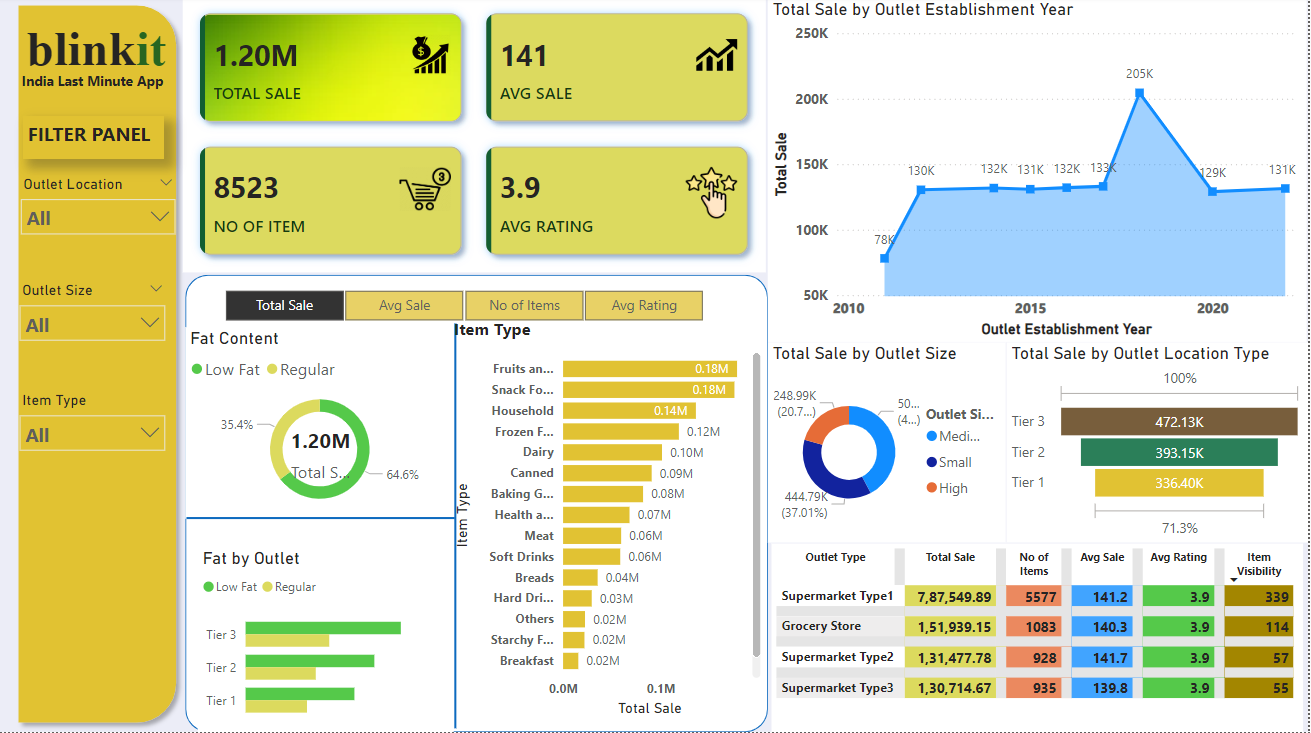

The page's visual inventory and layout, read from the dashboard file:
{"tool":"powerbi","page":{"name":"Page 1","canvas":[1280,720],"ordinal":0},"visuals":[{"type":"shape","box":[10,0,172.5,720],"z":0},{"type":"textbox","box":[22.5,20,172.5,67.5],"z":1000},{"type":"textbox","box":[17.5,68.8,188.8,36.2],"z":2000},{"type":"cardVisual","fields":{"Data":["BlinkIT Grocery Data.Total Sale","BlinkIT Grocery Data.Avg Sale","BlinkIT Grocery Data.No of Items","BlinkIT Grocery Data.Avg Rating","BlinkIT Grocery Data.Total Sale"]},"box":[180,0,570,270],"z":3000},{"type":"shape","box":[182.5,272.5,570,447.5],"z":4000},{"type":"slicer","fields":{"Values":["Metrics.Metrics"]},"box":[195.7,281.4,517.1,42.9],"z":5000},{"type":"donutChart","title":"Fat Content","fields":{"Y":["BlinkIT Grocery Data.Avg Rating"],"Category":["BlinkIT Grocery Data.Item Fat Content"]},"box":[182.5,323.8,263.8,187.5],"z":6000},{"type":"card","fields":{"Values":["BlinkIT Grocery Data.Avg Rating"]},"box":[280,417,69.7,59.9],"z":7000},{"type":"clusteredBarChart","title":"Fat by Outlet","fields":{"Y":["BlinkIT Grocery Data.Avg Rating"],"Category":["BlinkIT Grocery Data.Outlet Location Type"],"Series":["BlinkIT Grocery Data.Item Fat Content"]},"box":[195,538.8,250,181.2],"z":8000},{"type":"shape","box":[183.8,502.5,262.5,16.2],"z":9000},{"type":"shape","box":[442.5,320,7.5,396.2],"z":10000},{"type":"clusteredBarChart","title":" Item Type","fields":{"Y":["BlinkIT Grocery Data.Avg Rating"],"Category":["BlinkIT Grocery Data.Item Type"]},"box":[440,314.3,310,395.7],"z":11000},{"type":"funnel","fields":{"Category":["BlinkIT Grocery Data.Outlet Location Type"],"Y":["BlinkIT Grocery Data.Total Sale"]},"box":[985,338.8,295,196.2],"z":12000},{"type":"donutChart","fields":{"Category":["BlinkIT Grocery Data.Outlet Size"],"Y":["BlinkIT Grocery Data.Total Sale"]},"box":[752.5,338.8,232.5,196.2],"z":13000},{"type":"areaChart","fields":{"Category":["BlinkIT Grocery Data.Outlet Establishment Year"],"Y":["BlinkIT Grocery Data.Total Sale"]},"box":[752.5,2.5,527.5,336.2],"z":14000},{"type":"pivotTable","fields":{"Rows":["BlinkIT Grocery Data.Outlet Type"],"Values":["BlinkIT Grocery Data.Total Sale","BlinkIT Grocery Data.No of Items","BlinkIT Grocery Data.Avg Sale","BlinkIT Grocery Data.Avg Rating","Sum(BlinkIT Grocery Data.Item Visibility)"]},"box":[756.2,535,520,185],"z":15000},{"type":"slicer","fields":{"Values":["BlinkIT Grocery Data.Outlet Location Type"]},"box":[11.4,170,171.4,80],"z":16000},{"type":"slicer","fields":{"Values":["BlinkIT Grocery Data.Outlet Size"]},"box":[10,274.3,162.9,64.3],"z":17000},{"type":"slicer","fields":{"Values":["BlinkIT Grocery Data.Item Type"]},"box":[10,381.4,162.9,71.4],"z":18000},{"type":"textbox","box":[22.9,117.1,138.6,41.4],"z":19000}]}

Visuals, with their boxes in screenshot pixels (x1, y1, x2, y2), scaled from the page's 1280x720 canvas onto the 1311x733 screenshot:
shape: (10, 0, 187, 732)
textbox: (23, 20, 200, 89)
textbox: (18, 70, 211, 107)
cardVisual - BlinkIT Grocery Data.Total Sale x BlinkIT Grocery Data.Avg Sale: (184, 0, 768, 275)
shape: (187, 277, 771, 732)
slicer - Metrics.Metrics: (200, 286, 730, 330)
"Fat Content" donutChart: (187, 330, 457, 521)
card - BlinkIT Grocery Data.Avg Rating: (287, 425, 358, 486)
"Fat by Outlet" clusteredBarChart: (200, 549, 456, 732)
shape: (188, 512, 457, 528)
shape: (453, 326, 461, 729)
" Item Type" clusteredBarChart: (451, 320, 768, 723)
funnel - BlinkIT Grocery Data.Outlet Location Type x BlinkIT Grocery Data.Total Sale: (1009, 345, 1310, 545)
donutChart - BlinkIT Grocery Data.Outlet Size x BlinkIT Grocery Data.Total Sale: (771, 345, 1009, 545)
areaChart - BlinkIT Grocery Data.Outlet Establishment Year x BlinkIT Grocery Data.Total Sale: (771, 3, 1310, 345)
pivotTable - BlinkIT Grocery Data.Outlet Type x BlinkIT Grocery Data.Total Sale: (775, 545, 1307, 732)
slicer - BlinkIT Grocery Data.Outlet Location Type: (12, 173, 187, 255)
slicer - BlinkIT Grocery Data.Outlet Size: (10, 279, 177, 345)
slicer - BlinkIT Grocery Data.Item Type: (10, 388, 177, 461)
textbox: (23, 119, 165, 161)
